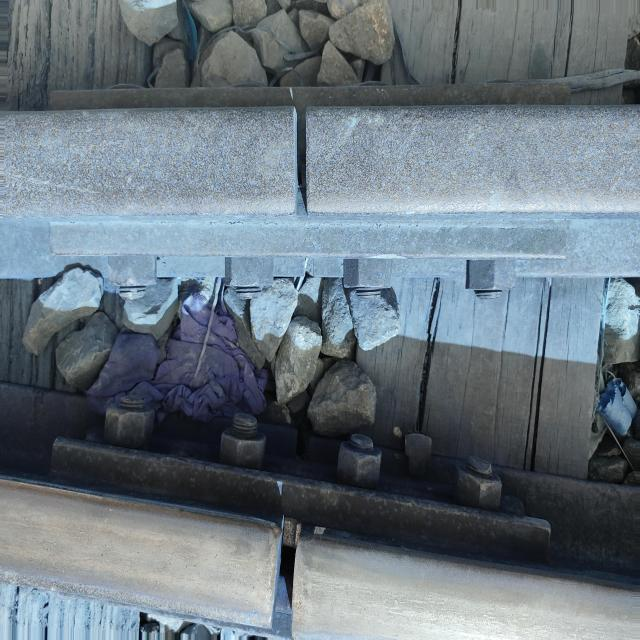Good Joint: (0, 81, 640, 290), (136, 261, 150, 279)
